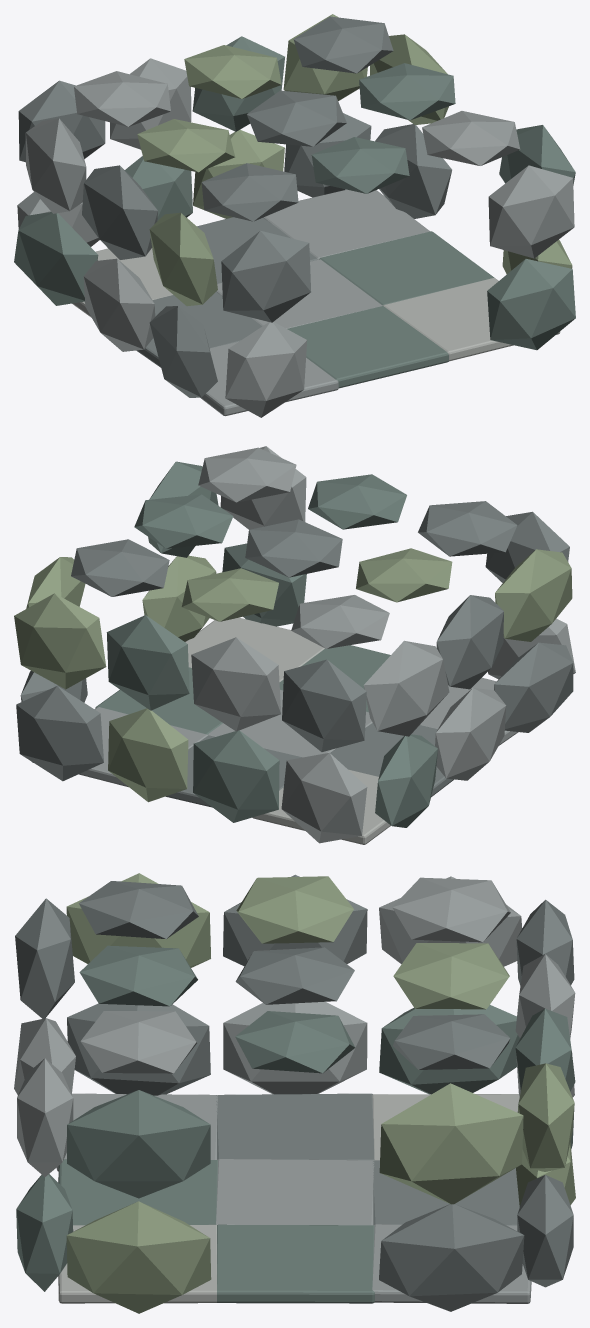
File: chamber_8x8x4.glb
3 views of the same model, one above another, from view 1: azimuth 30°, elevation 25°; view 2: azimuth 150°, elevation 25°; view 3: azimuth 270°, elevation 25° (orthographic). The views are drawn at different scales.
Parts seen in each view (by area): view 1: chamber_floor_02, chamber_floor_06, chamber_floor_09, chamber_wall_21, chamber_wall_11, chamber_wall_22, chamber_wall_10, chamber_floor_03, chamber_wall_03, chamber_wall_13, chamber_wall_02, chamber_wall_12 (+28 smaller); view 2: chamber_wall_18, chamber_wall_20, chamber_wall_07, chamber_wall_09, chamber_wall_17, chamber_wall_19, chamber_wall_06, chamber_wall_08, chamber_wall_14, chamber_wall_12, chamber_wall_01, chamber_wall_02 (+28 smaller); view 3: chamber_floor_06, chamber_wall_16, chamber_wall_04, chamber_wall_15, chamber_wall_05, chamber_floor_04, chamber_floor_05, chamber_ceiling_04, chamber_ceiling_08, chamber_ceiling_07, chamber_ceiling_03, chamber_ceiling_06 (+26 smaller).
Boxes of the visible parts, bbox=[...] form: chamber_floor_02: bbox=[287, 306, 448, 388]; chamber_floor_06: bbox=[319, 231, 494, 305]; chamber_floor_09: bbox=[263, 189, 429, 259]; chamber_wall_21: bbox=[221, 230, 311, 322]; chamber_wall_11: bbox=[487, 259, 575, 350]; chamber_wall_22: bbox=[488, 165, 574, 258]; chamber_wall_10: bbox=[225, 322, 307, 417]; chamber_floor_03: bbox=[383, 278, 560, 361]; chamber_wall_03: bbox=[14, 212, 98, 305]; chamber_wall_13: bbox=[82, 165, 157, 259]; chamber_wall_02: bbox=[83, 258, 155, 351]; chamber_wall_12: bbox=[149, 212, 217, 306]; chamber_wall_18: bbox=[191, 637, 281, 731]; chamber_wall_20: bbox=[14, 593, 106, 689]; chamber_wall_07: bbox=[193, 730, 279, 822]; chamber_wall_09: bbox=[16, 686, 103, 781]; chamber_wall_17: bbox=[282, 659, 366, 751]; chamber_wall_19: bbox=[106, 615, 189, 710]; chamber_wall_06: bbox=[281, 752, 367, 843]; chamber_wall_08: bbox=[108, 708, 188, 802]; chamber_wall_14: bbox=[363, 640, 449, 736]; chamber_wall_12: bbox=[495, 549, 572, 641]; chamber_wall_01: bbox=[494, 642, 573, 732]; chamber_wall_02: bbox=[435, 688, 506, 780]; chamber_floor_06: bbox=[217, 1224, 374, 1303]; chamber_wall_16: bbox=[379, 1083, 523, 1204]; chamber_wall_04: bbox=[66, 1201, 211, 1313]; chamber_wall_15: bbox=[67, 1090, 210, 1198]; chamber_wall_05: bbox=[379, 1204, 524, 1311]; chamber_floor_04: bbox=[216, 1093, 374, 1160]; chamber_floor_05: bbox=[216, 1159, 374, 1225]; chamber_ceiling_04: bbox=[236, 876, 353, 943]; chamber_ceiling_08: bbox=[393, 943, 509, 1009]; chamber_ceiling_07: bbox=[392, 877, 510, 942]; chamber_ceiling_03: bbox=[80, 1011, 196, 1073]; chamber_ceiling_06: bbox=[235, 1011, 355, 1073].
Bounding box in the file's own units: 9.06 × 4.48 × 8.98.
